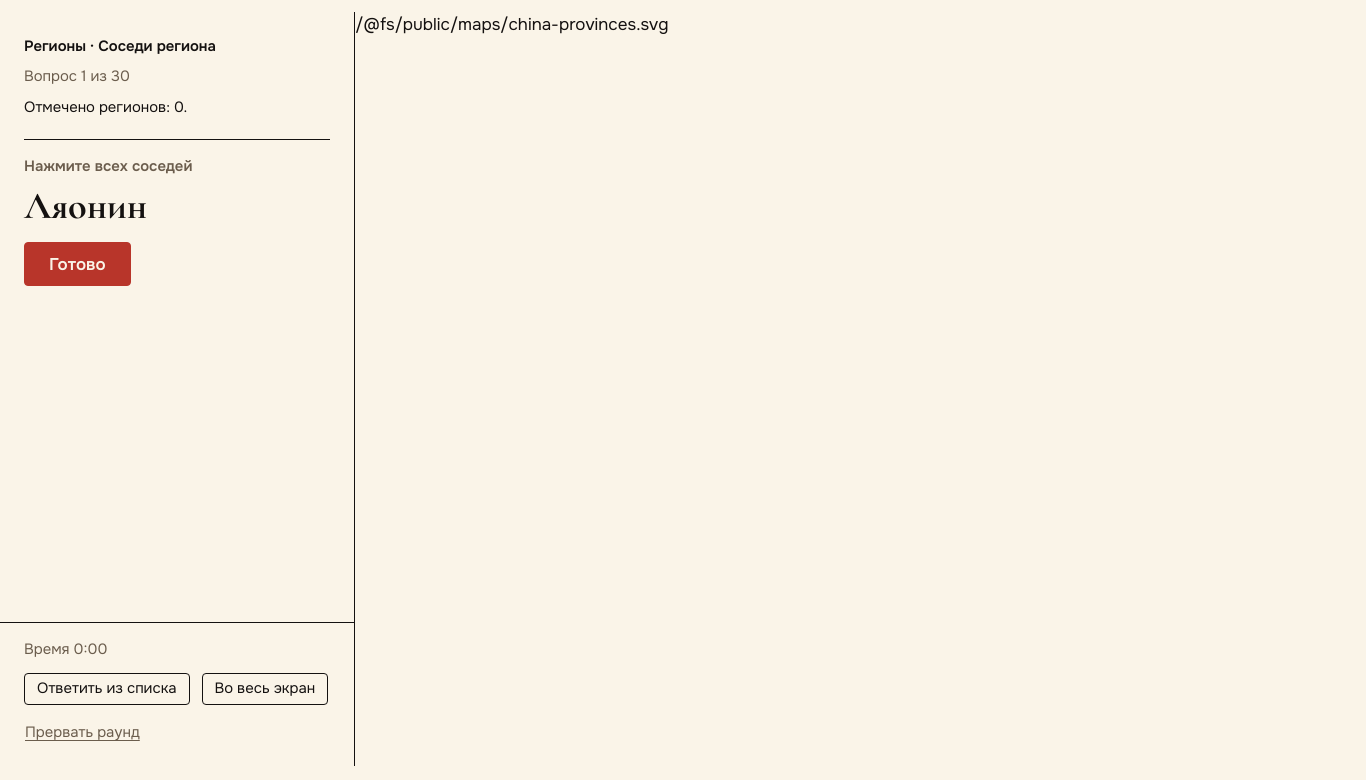
Test: до «Готово» карта исход не показывает
Click the button "Ответить из списка" at point(107, 689), box [24,673,190,705]
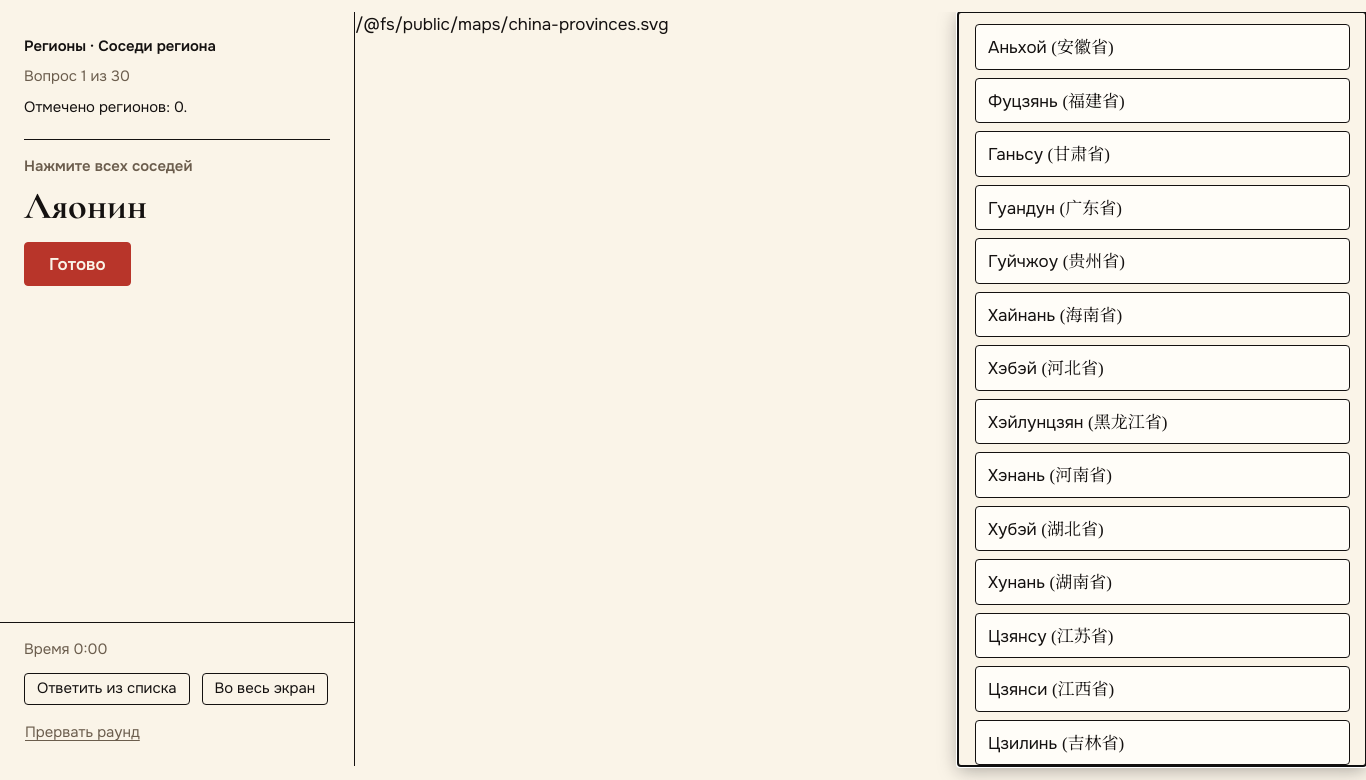
Click the button "Хэбэй (河北省)" at point(1012, 368), box [975,345,1350,390]
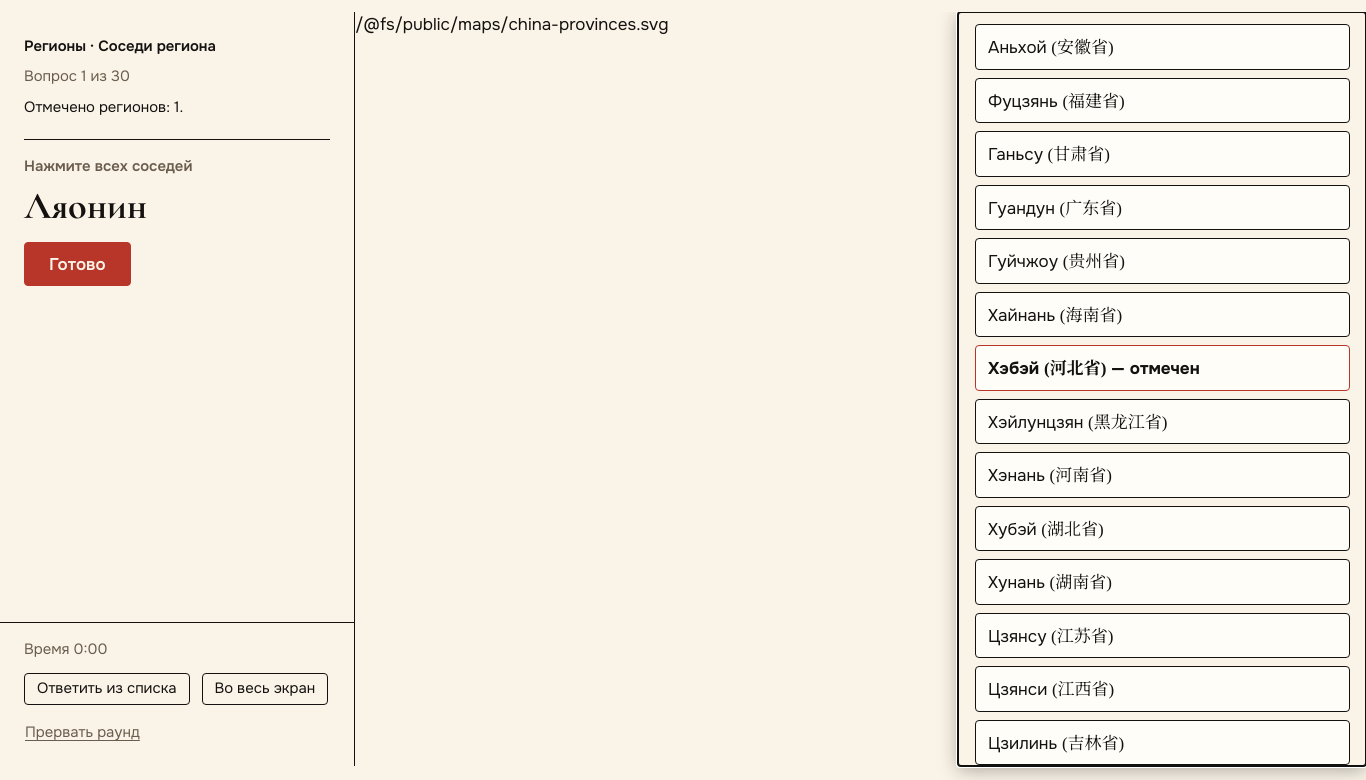
expect the button "Хэбэй (河北省) — отмечен" is shown: met, box [975,345,1350,390]
